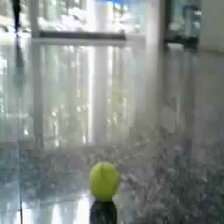tennis: (88, 163, 117, 200)
